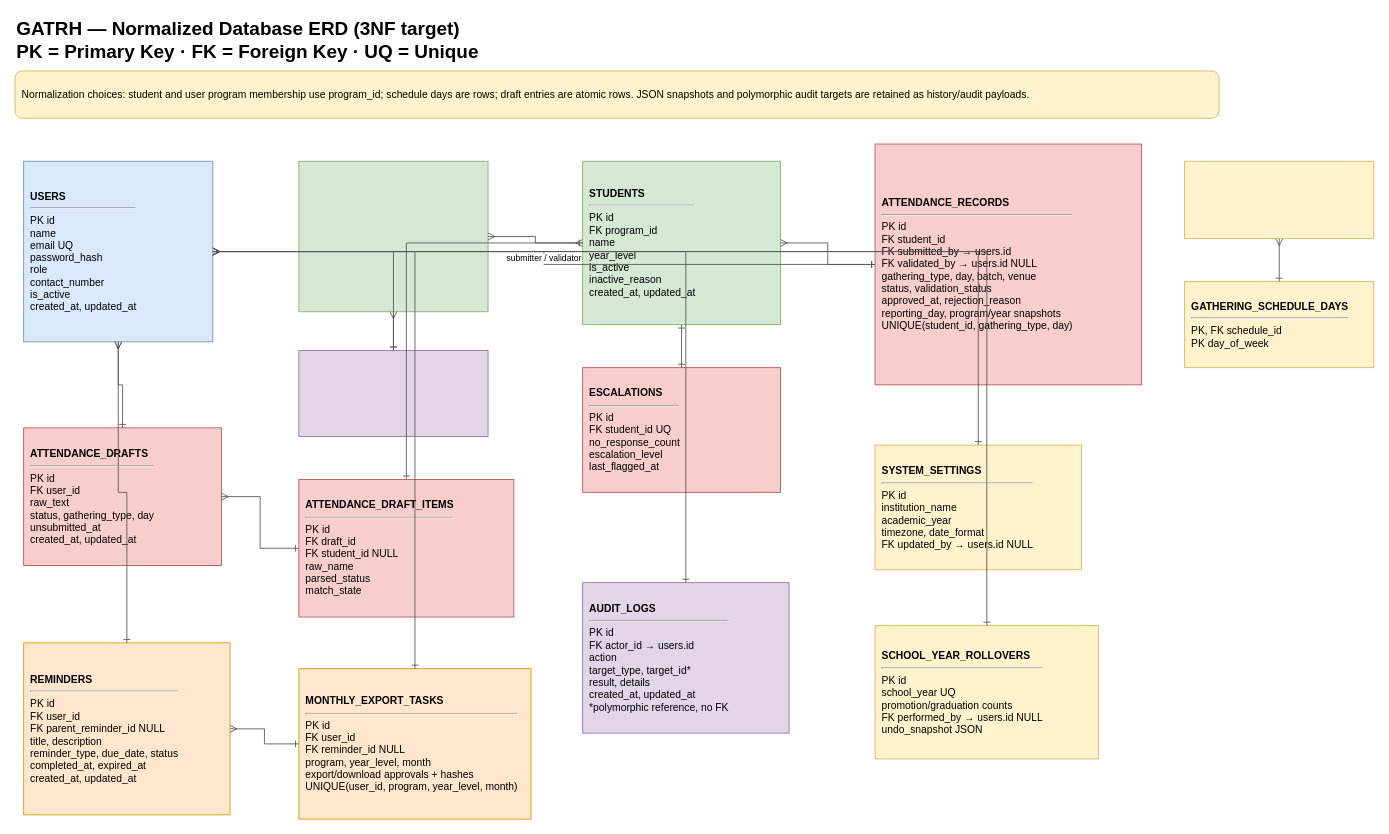
Image size: 1389x834. Some labels were removed from this diagram. Each missing label, with the centre of its shape:
"GATHERING_SCHEDULES PK id gathering_type UQ" goes at point (1279, 199).
"PROGRAMS PK id code UQ name UQ max_year_level is_active created_at, updated_at" goes at point (393, 236).
"USER_PROGRAM PK, FK user_id PK, FK program_id" goes at point (393, 393).
